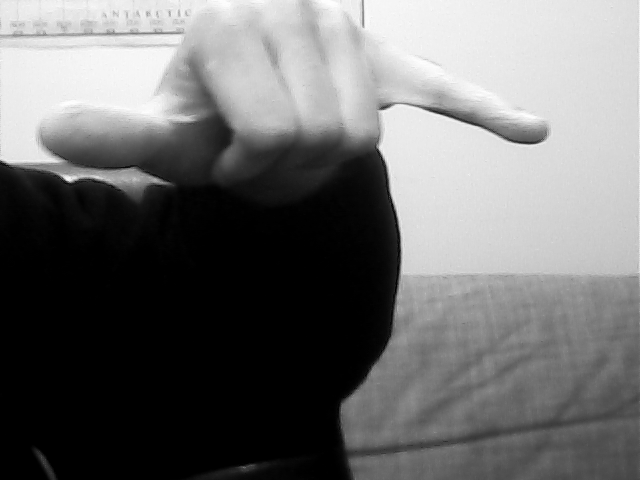aloha: (34, 1, 553, 198)
